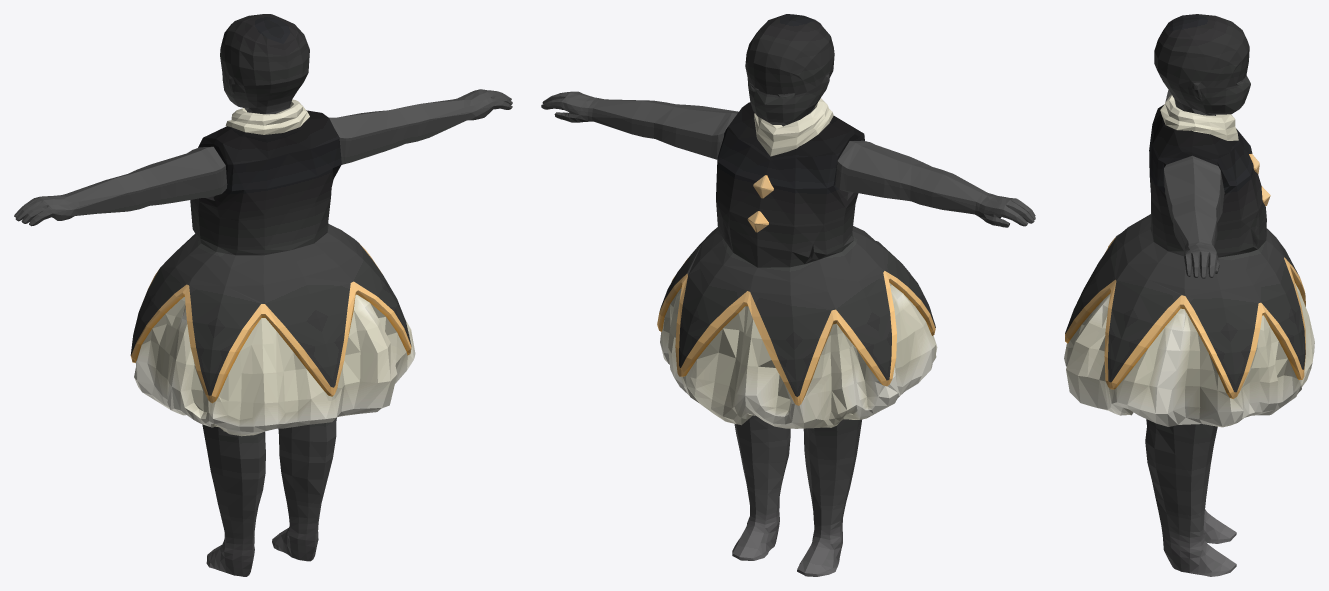
Rendered from NPC_AP30PuffyDress.glb.
3 views of the same model, side by side, from view 1: azimuth 30°, elevation 25°; view 2: azimuth 150°, elevation 25°; view 3: azimuth 270°, elevation 25° (orthographic).
Visible parts, largest first — view 1: NPC_AP30PuffyDress; view 2: NPC_AP30PuffyDress; view 3: NPC_AP30PuffyDress.
Part boxes in pixels (x1,y1,x2,y2): NPC_AP30PuffyDress: (14,14,512,576); NPC_AP30PuffyDress: (541,14,1035,576); NPC_AP30PuffyDress: (1064,14,1314,576).
Size of the model in its own units: 14.15 by 14.75 by 6.28.
Materials: 1 (1 with a texture image).
